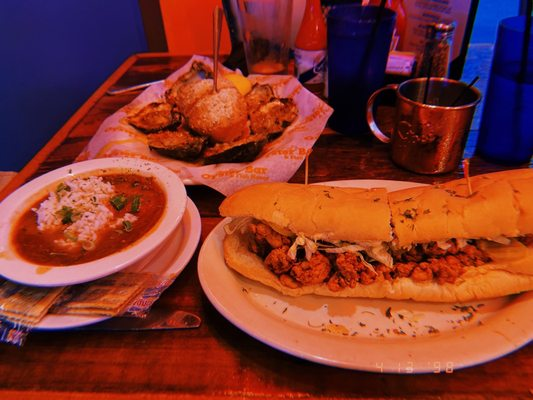pizza: (366, 76, 482, 175), (224, 0, 309, 76)
